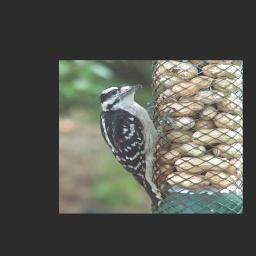Woodpecker: (89, 82, 178, 210)
